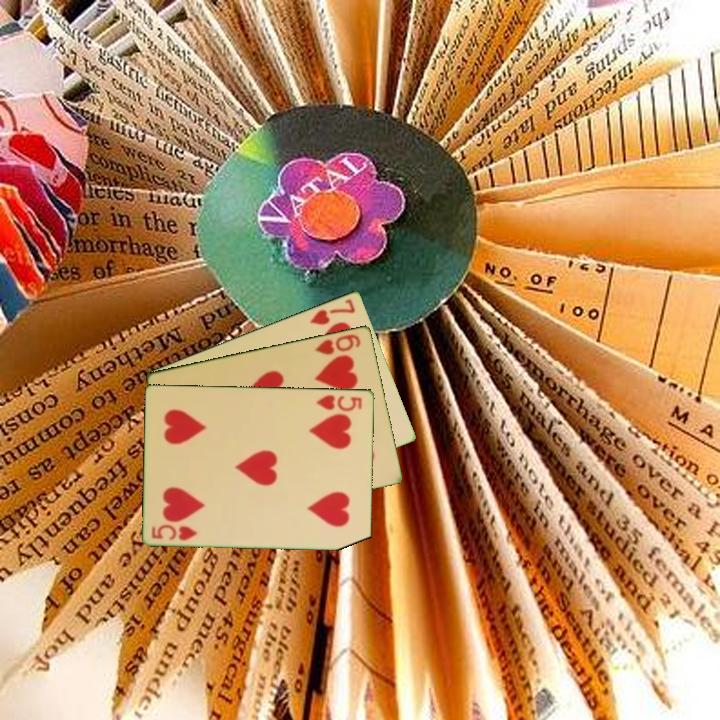5h: (313, 391, 365, 414), (148, 521, 201, 543)
6h: (312, 330, 364, 357)
7h: (306, 295, 358, 328)
